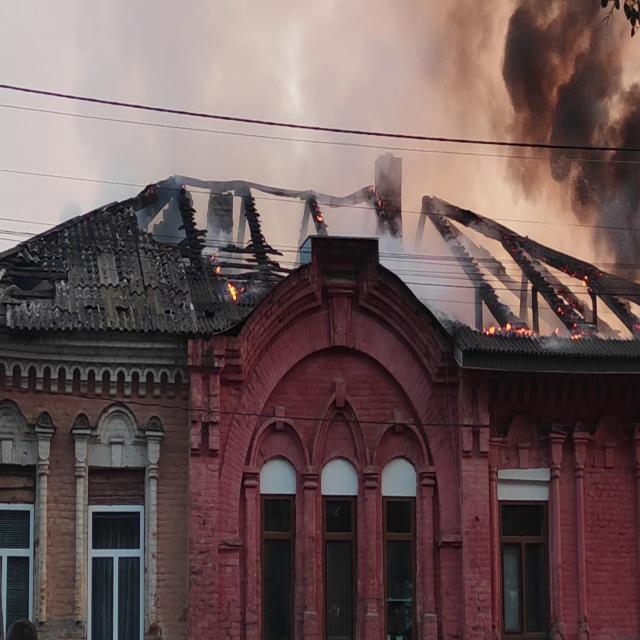smoke: (503, 0, 639, 249)
